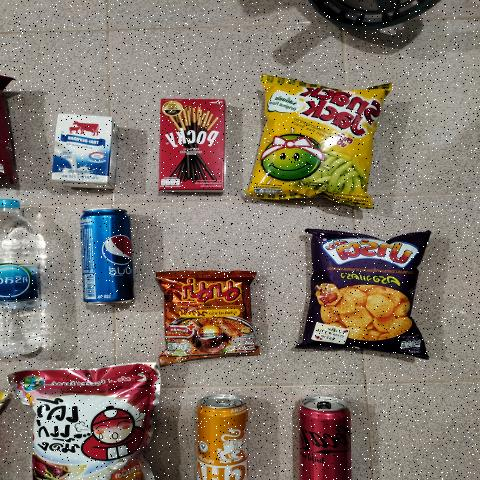coke_red: (298, 398, 346, 480)
crystal: (0, 198, 41, 364)
mama: (160, 274, 254, 355)
party_purple: (307, 232, 423, 344)
pepsi_blue: (79, 209, 132, 303)
pokki: (160, 99, 222, 192)
singha_yellow: (197, 393, 248, 480)
snack_jack: (273, 84, 368, 203)
taokaenoi: (12, 362, 156, 480)
thai_denmark: (56, 114, 110, 186)
